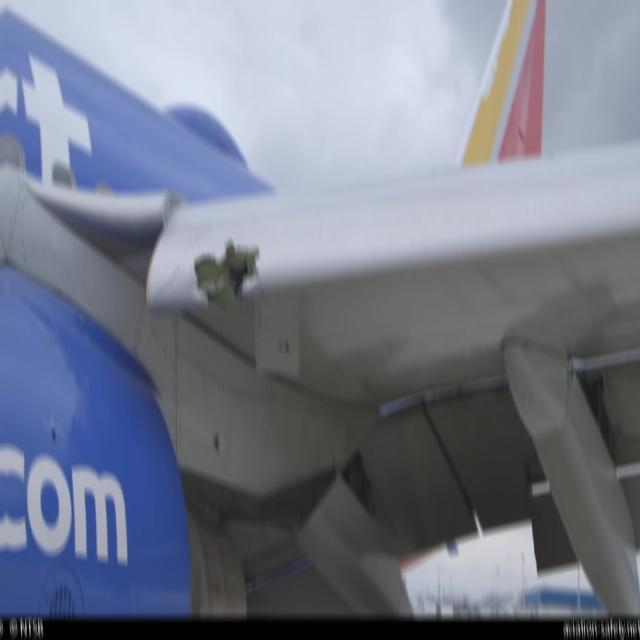crack: (194, 237, 263, 315)
